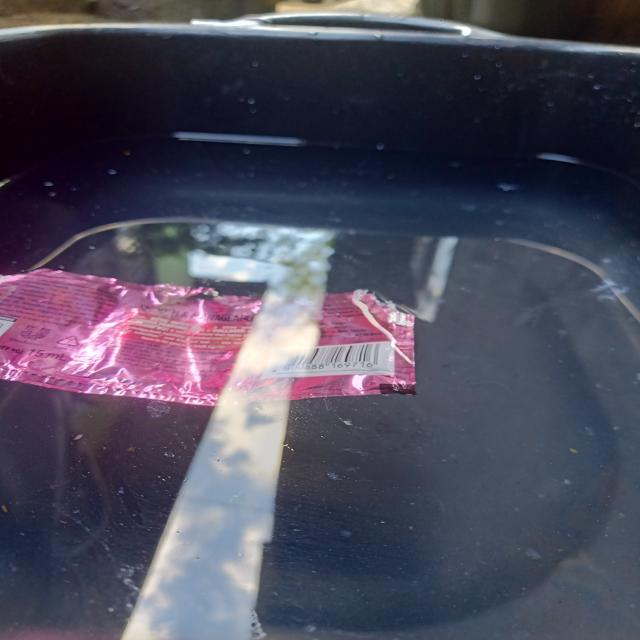Plastic Wrapper: (0, 249, 443, 415)
